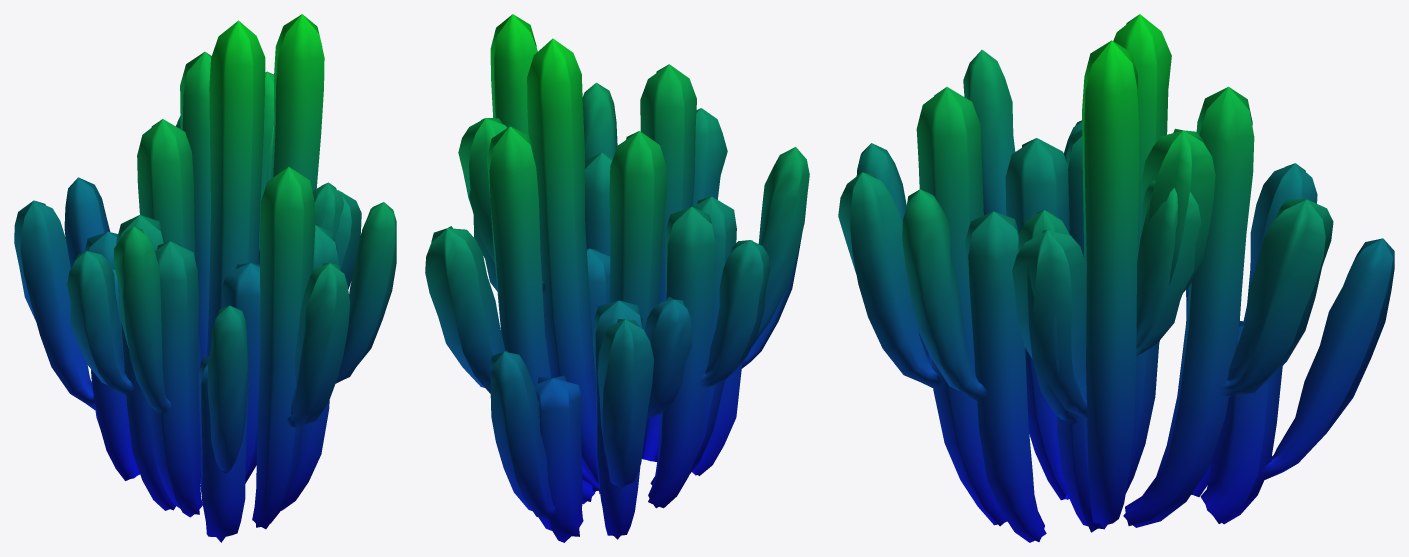
File: Senita8.fbx
The picture shows the model from 3 angles, left to right: view 1: azimuth 30°, elevation 25°; view 2: azimuth 150°, elevation 25°; view 3: azimuth 270°, elevation 25°; orthographic projection. The views are drawn at different scales.
Parts seen in each view (by area): view 1: Senita8_LOD0; view 2: Senita8_LOD0; view 3: Senita8_LOD0.
Boxes of the visible parts, box(x1,y1,x2,y2) form: Senita8_LOD0: box(14, 14, 396, 542); Senita8_LOD0: box(425, 14, 809, 542); Senita8_LOD0: box(838, 14, 1394, 542).
Size of what is drawn, in the model's own units: 163 by 268 by 250.
